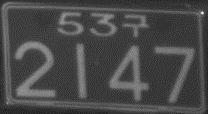1: (65, 42, 102, 99)
2: (13, 40, 56, 98)
3: (89, 12, 116, 37)
4: (108, 43, 149, 101)
5: (57, 10, 84, 37)
7: (153, 44, 196, 105)
구: (121, 13, 149, 36)
